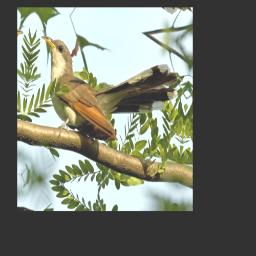Cuckoo: (32, 34, 181, 159)
